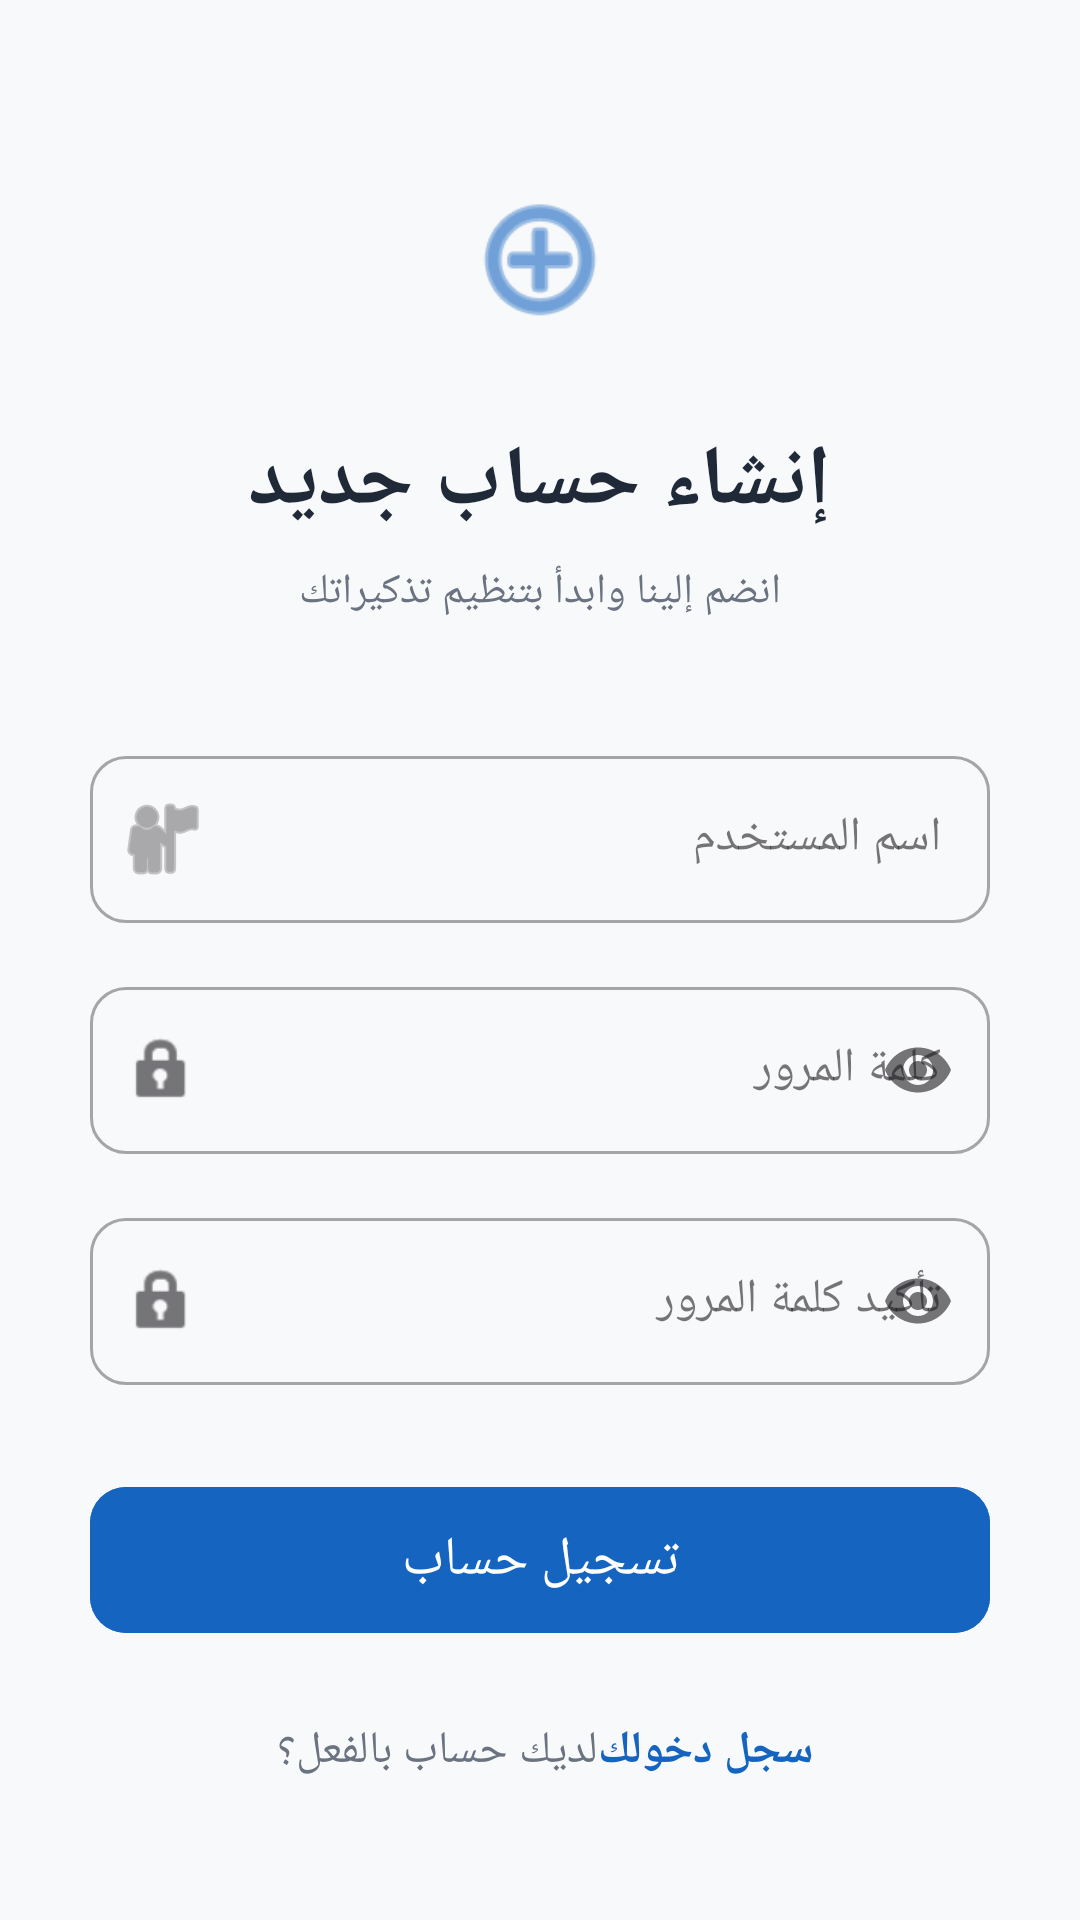

Screen size 1080w x 1920h. Icon name, then its box in pixels as region(x1, y1, x2, y2):
add: region(484, 204, 596, 316)
